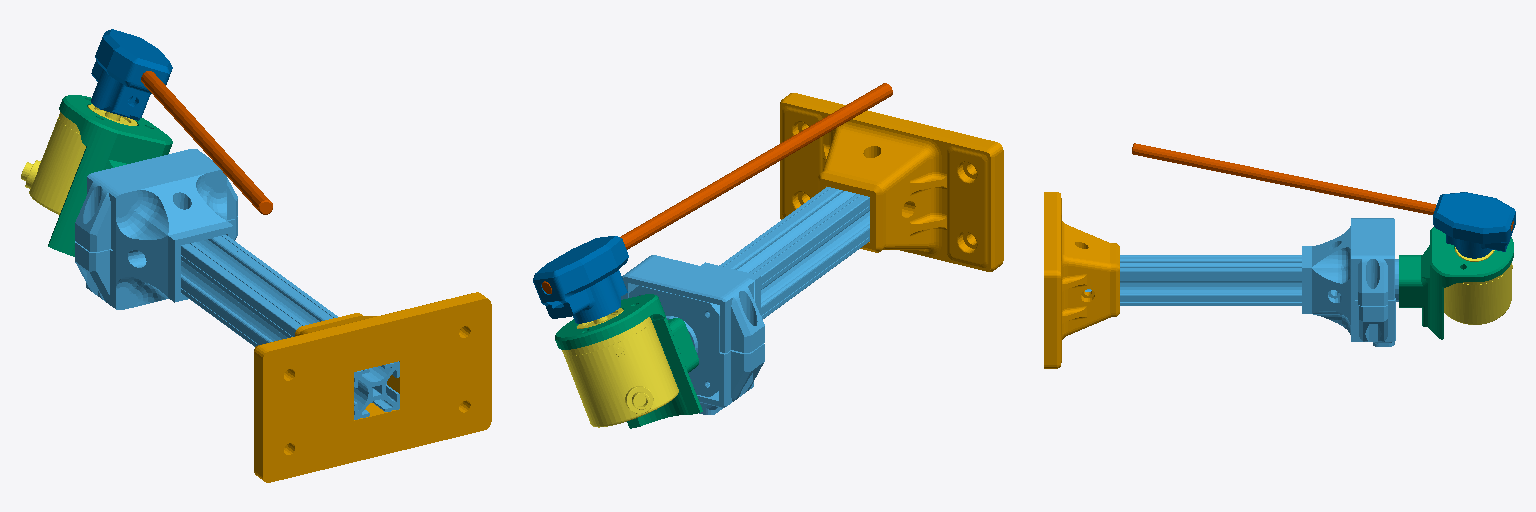
robot.urdf — Rotary_Pendulum_URDF:
<?xml version="1.0" ?>

<!-- Exported from Fusion360 using Fusion2PyBullet URDF Exporter add-in
https://github.com/yanshil/Fusion2PyBullet -->

<robot name="Rotary_Pendulum_URDF">

<material name="steel">
  <color rgba="0.8 0.8 0.8 1"/>
</material>

<material name="red_PLA">
  <color rgba="0.8 0.1 0.1 1"/>
</material>

<link name="base_link">
  <inertial>
    <origin xyz="-1.637812853231983e-09 0.010428515187407722 -5.976808044466021e-07" rpy="0 0 0"/>
    <mass value="0.5566153467152597"/>
    <inertia ixx="0.00017394527995920147" iyy="0.0004598802097550786" izz="0.00038329306770351753" ixy="8.08736299538941e-12" iyz="-2.6827494373893233e-09" ixz="-2.944769778816203e-12"/>
  </inertial>
  <visual>
    <origin xyz="0 0 0" rpy="0 0 0"/>
    <geometry>
      <mesh filename="meshes/base_link.stl" scale="0.001 0.001 0.001"/>
    </geometry>
    <material name="red_PLA"/>
    <material/>
  </visual>
  <collision>
    <origin xyz="0 0 0" rpy="0 0 0"/>
    <geometry>
      <mesh filename="meshes/base_link.stl" scale="0.001 0.001 0.001"/>
    </geometry>
  </collision>
</link>

<link name="turret1">
  <inertial>
    <origin xyz="1.482589677110954e-05 0.1419171624727705 -0.000530790430100789" rpy="0 0 0"/>
    <mass value="0.7582188421959414"/>
    <inertia ixx="0.0016140518151033702" iyy="0.00024061157462105387" izz="0.0016314964223564498" ixy="-2.3455776078392934e-07" iyz="1.2573156205263618e-05" ixz="-6.0143918620094665e-09"/>
  </inertial>
  <visual>
    <origin xyz="-0.0 -0.0 0.0" rpy="0 0 0"/>
    <geometry>
      <mesh filename="meshes/turret1.stl" scale="0.001 0.001 0.001"/>
    </geometry>
    <material name="steel"/>
    <material/>
  </visual>
  <collision>
    <origin xyz="-0.0 -0.0 0.0" rpy="0 0 0"/>
    <geometry>
      <mesh filename="meshes/turret1.stl" scale="0.001 0.001 0.001"/>
    </geometry>
  </collision>
</link>

<link name="Encoder_Support_v41">
  <inertial>
    <origin xyz="0.00217985877019745 0.01980756738642242 0.004828256285272486" rpy="0 0 0"/>
    <mass value="0.021191441984977768"/>
    <inertia ixx="7.703008270521492e-06" iyy="6.842541333455326e-06" izz="5.8604685483009625e-06" ixy="-9.455308732426929e-07" iyz="-2.0942941093529613e-06" ixz="-1.0448432373225258e-06"/>
  </inertial>
  <visual>
    <origin xyz="-0.0 -0.1805 0.0" rpy="0 0 0"/>
    <geometry>
      <mesh filename="meshes/Encoder_Support_v41.stl" scale="0.001 0.001 0.001"/>
    </geometry>
    <material name="red_PLA"/>
    <material/>
  </visual>
  <collision>
    <origin xyz="-0.0 -0.1805 0.0" rpy="0 0 0"/>
    <geometry>
      <mesh filename="meshes/Encoder_Support_v41.stl" scale="0.001 0.001 0.001"/>
    </geometry>
  </collision>
</link>

<link name="Encoder_v51">
  <inertial>
    <origin xyz="-0.008979387591137053 9.351609612792688e-05 -0.019660179973636772" rpy="0 0 0"/>
    <mass value="0.11251478072080646"/>
    <inertia ixx="2.2648303452246082e-05" iyy="2.334690723956796e-05" izz="2.0466237623186986e-05" ixy="1.886820970903159e-07" iyz="5.279008581608583e-08" ixz="-1.4234532178983062e-06"/>
  </inertial>
  <visual>
    <origin xyz="-0.010935 -0.219133 -0.024221" rpy="0 0 0"/>
    <geometry>
      <mesh filename="meshes/Encoder_v51.stl" scale="0.001 0.001 0.001"/>
    </geometry>
    <material name="steel"/>
    <material/>
  </visual>
  <collision>
    <origin xyz="-0.010935 -0.219133 -0.024221" rpy="0 0 0"/>
    <geometry>
      <mesh filename="meshes/Encoder_v51.stl" scale="0.001 0.001 0.001"/>
    </geometry>
  </collision>
</link>

<link name="Holder_Bar_Cylinder_v31">
  <inertial>
    <origin xyz="0.0007754311855294217 0.000490995720344306 0.0013982362303315843" rpy="0 0 0"/>
    <mass value="0.014744627556886925"/>
    <inertia ixx="2.028287531912398e-06" iyy="1.3527262724917384e-06" izz="1.9562573889438236e-06" ixy="-1.5958955401930148e-07" iyz="1.2381964754608235e-07" ixz="-2.1749127605854876e-08"/>
  </inertial>
  <visual>
    <origin xyz="-0.017519 -0.218933 -0.038804" rpy="0 0 0"/>
    <geometry>
      <mesh filename="meshes/Holder_Bar_Cylinder_v31.stl" scale="0.001 0.001 0.001"/>
    </geometry>
    <material name="red_PLA"/>
    <material/>
  </visual>
  <collision>
    <origin xyz="-0.017519 -0.218933 -0.038804" rpy="0 0 0"/>
    <geometry>
      <mesh filename="meshes/Holder_Bar_Cylinder_v31.stl" scale="0.001 0.001 0.001"/>
    </geometry>
  </collision>
</link>

<link name="Steel_Bar_6mm_v31">
  <inertial>
    <origin xyz="-0.023620822599428645 -0.09658280987120599 0.010664037156271566" rpy="0 0 0"/>
    <mass value="0.04435576706692199"/>
    <inertia ixx="0.00013948948373546945" iyy="1.0108324876256423e-05" izz="0.0001460427897185128" ixy="-3.365556348381119e-05" iyz="1.5194797229720666e-05" ixz="3.7161627269661323e-06"/>
  </inertial>
  <visual>
    <origin xyz="-0.024712 -0.238249 -0.04214" rpy="0 0 0"/>
    <geometry>
      <mesh filename="meshes/Steel_Bar_6mm_v31.stl" scale="0.001 0.001 0.001"/>
    </geometry>
    <material name="steel"/>
    <material/>
  </visual>
  <collision>
    <origin xyz="-0.024712 -0.238249 -0.04214" rpy="0 0 0"/>
    <geometry>
      <mesh filename="meshes/Steel_Bar_6mm_v31.stl" scale="0.001 0.001 0.001"/>
    </geometry>
  </collision>
</link>

<joint name="Rigid_2" type="fixed">
  <origin xyz="0.0 0.0 0.0" rpy="0 0 0"/>
  <parent link="base_link"/>
  <child link="turret1"/>
</joint>

<joint name="Revolute_3" type="continuous">
  <origin xyz="0.0 0.1805 0.0" rpy="0 0 0"/>
  <parent link="turret1"/>
  <child link="Encoder_Support_v41"/>
  <axis xyz="0.0 1.0 -0.0"/>
</joint>
<transmission name="Revolute_3_tran">
  <type>transmission_interface/SimpleTransmission</type>
  <joint name="Revolute_3">
    <hardwareInterface>PositionJointInterface</hardwareInterface>
  </joint>
  <actuator name="Revolute_3_actr">
    <hardwareInterface>PositionJointInterface</hardwareInterface>
    <mechanicalReduction>1</mechanicalReduction>
  </actuator>
</transmission>

<joint name="Rigid_4" type="fixed">
  <origin xyz="0.010935 0.038633 0.024221" rpy="0 0 0"/>
  <parent link="Encoder_Support_v41"/>
  <child link="Encoder_v51"/>
</joint>

<joint name="Revolute_5" type="continuous">
  <origin xyz="0.006584 -0.0002 0.014583" rpy="0 0 0"/>
  <parent link="Encoder_v51"/>
  <child link="Holder_Bar_Cylinder_v31"/>
  <axis xyz="0.411486 -0.0 0.911416"/>
</joint>
<transmission name="Revolute_5_tran">
  <type>transmission_interface/SimpleTransmission</type>
  <joint name="Revolute_5">
    <hardwareInterface>PositionJointInterface</hardwareInterface>
  </joint>
  <actuator name="Revolute_5_actr">
    <hardwareInterface>PositionJointInterface</hardwareInterface>
    <mechanicalReduction>1</mechanicalReduction>
  </actuator>
</transmission>

<joint name="Rigid_6" type="fixed">
  <origin xyz="0.007193 0.019316 0.003336" rpy="0 0 0"/>
  <parent link="Holder_Bar_Cylinder_v31"/>
  <child link="Steel_Bar_6mm_v31"/>
</joint>

</robot>

--- Render facts (derived) ---
Views: 3 orthographic renders of the robot side by side, from view 1: azimuth 30°, elevation 25°; view 2: azimuth 150°, elevation 25°; view 3: azimuth 270°, elevation 25°.
Model Rotary_Pendulum_URDF with 6 links and 5 joints (2 continuous, 3 fixed), rooted at base_link, posed every joint at zero.
Visible links, largest first — view 1: base_link, turret1, Encoder_Support_v41, Holder_Bar_Cylinder_v31, Encoder_v51, Steel_Bar_6mm_v31; view 2: base_link, turret1, Encoder_v51, Holder_Bar_Cylinder_v31, Encoder_Support_v41, Steel_Bar_6mm_v31; view 3: turret1, base_link, Encoder_Support_v41, Holder_Bar_Cylinder_v31, Steel_Bar_6mm_v31, Encoder_v51.
Link boxes in pixels (x1=…): base_link: x1=254, y1=292, x2=491, y2=482; turret1: x1=75, y1=149, x2=399, y2=419; Encoder_Support_v41: x1=48, y1=95, x2=172, y2=256; Holder_Bar_Cylinder_v31: x1=91, y1=29, x2=172, y2=120; Encoder_v51: x1=21, y1=104, x2=137, y2=214; Steel_Bar_6mm_v31: x1=141, y1=71, x2=272, y2=214; base_link: x1=780, y1=93, x2=1003, y2=271; turret1: x1=621, y1=187, x2=869, y2=414; Encoder_v51: x1=562, y1=308, x2=678, y2=427; Holder_Bar_Cylinder_v31: x1=533, y1=236, x2=628, y2=323; Encoder_Support_v41: x1=555, y1=294, x2=702, y2=428; Steel_Bar_6mm_v31: x1=542, y1=83, x2=892, y2=293; turret1: x1=1085, y1=218, x2=1398, y2=346; base_link: x1=1044, y1=192, x2=1119, y2=368; Encoder_Support_v41: x1=1399, y1=227, x2=1513, y2=339; Holder_Bar_Cylinder_v31: x1=1433, y1=192, x2=1515, y2=258; Steel_Bar_6mm_v31: x1=1132, y1=143, x2=1513, y2=230; Encoder_v51: x1=1444, y1=247, x2=1512, y2=324.
Size in the robot's own frame: 0.1 by 0.2398 by 0.0967 metres.
6 mesh visuals loaded from 6 distinct referenced files (6 binary STL).